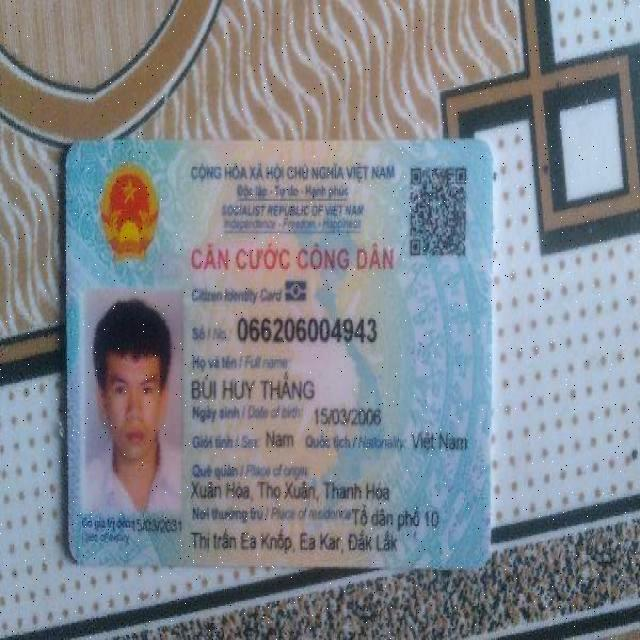current_place: (188, 524, 402, 558), (351, 502, 442, 533)
dob: (313, 398, 383, 431)
expire_date: (130, 516, 185, 538)
gender: (261, 427, 301, 458)
id: (235, 313, 380, 346)
name: (186, 373, 321, 407)
nationality: (405, 422, 473, 460)
origin_place: (190, 474, 391, 505)
